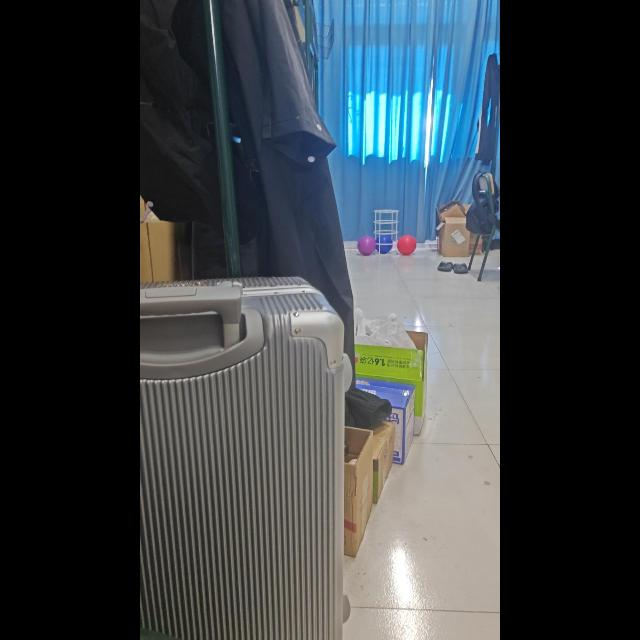B: (375, 235, 392, 254)
P: (358, 236, 376, 255)
R: (398, 235, 416, 255)
S: (374, 209, 399, 254)
